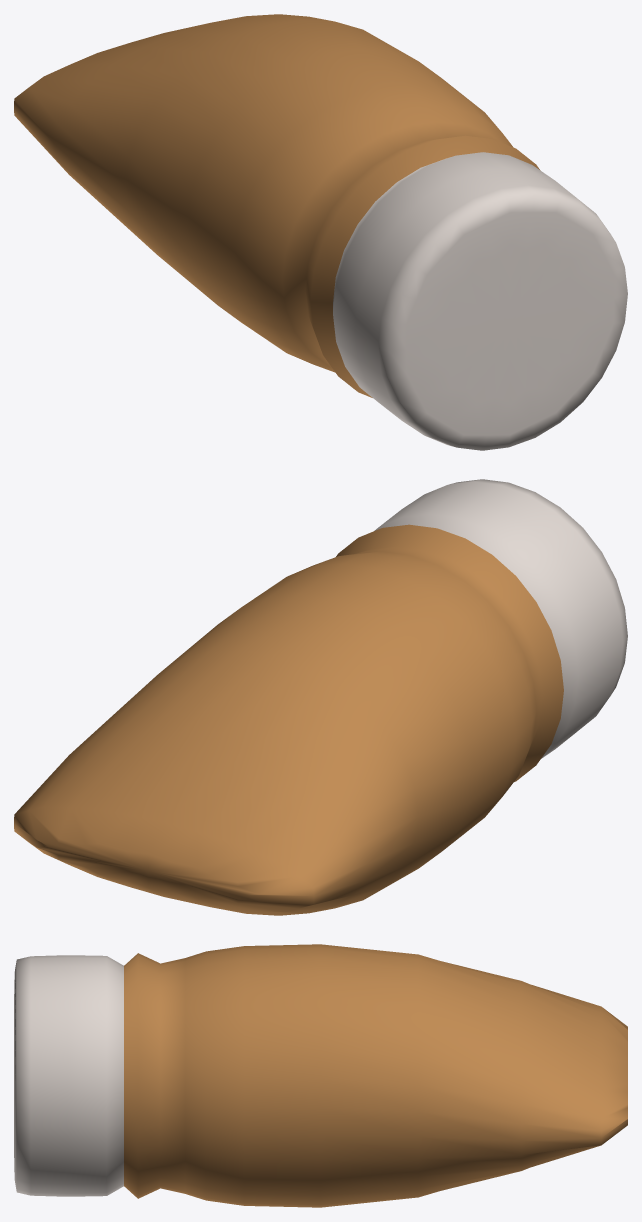
The model's file is pasta_dental.fbx.
3 views of the same model, one above another, from view 1: azimuth 30°, elevation 25°; view 2: azimuth 150°, elevation 25°; view 3: azimuth 270°, elevation 25° (orthographic). The views are drawn at different scales.
Parts seen in each view (by area): view 1: pCylinder1; view 2: pCylinder1; view 3: pCylinder1.
Part boxes in pixels (x1,y1,x2,y2): pCylinder1: (14,14,627,450); pCylinder1: (14,479,627,915); pCylinder1: (14,944,627,1207).
Size of the model in its own units: 6.82 by 5.76 by 13.61.
